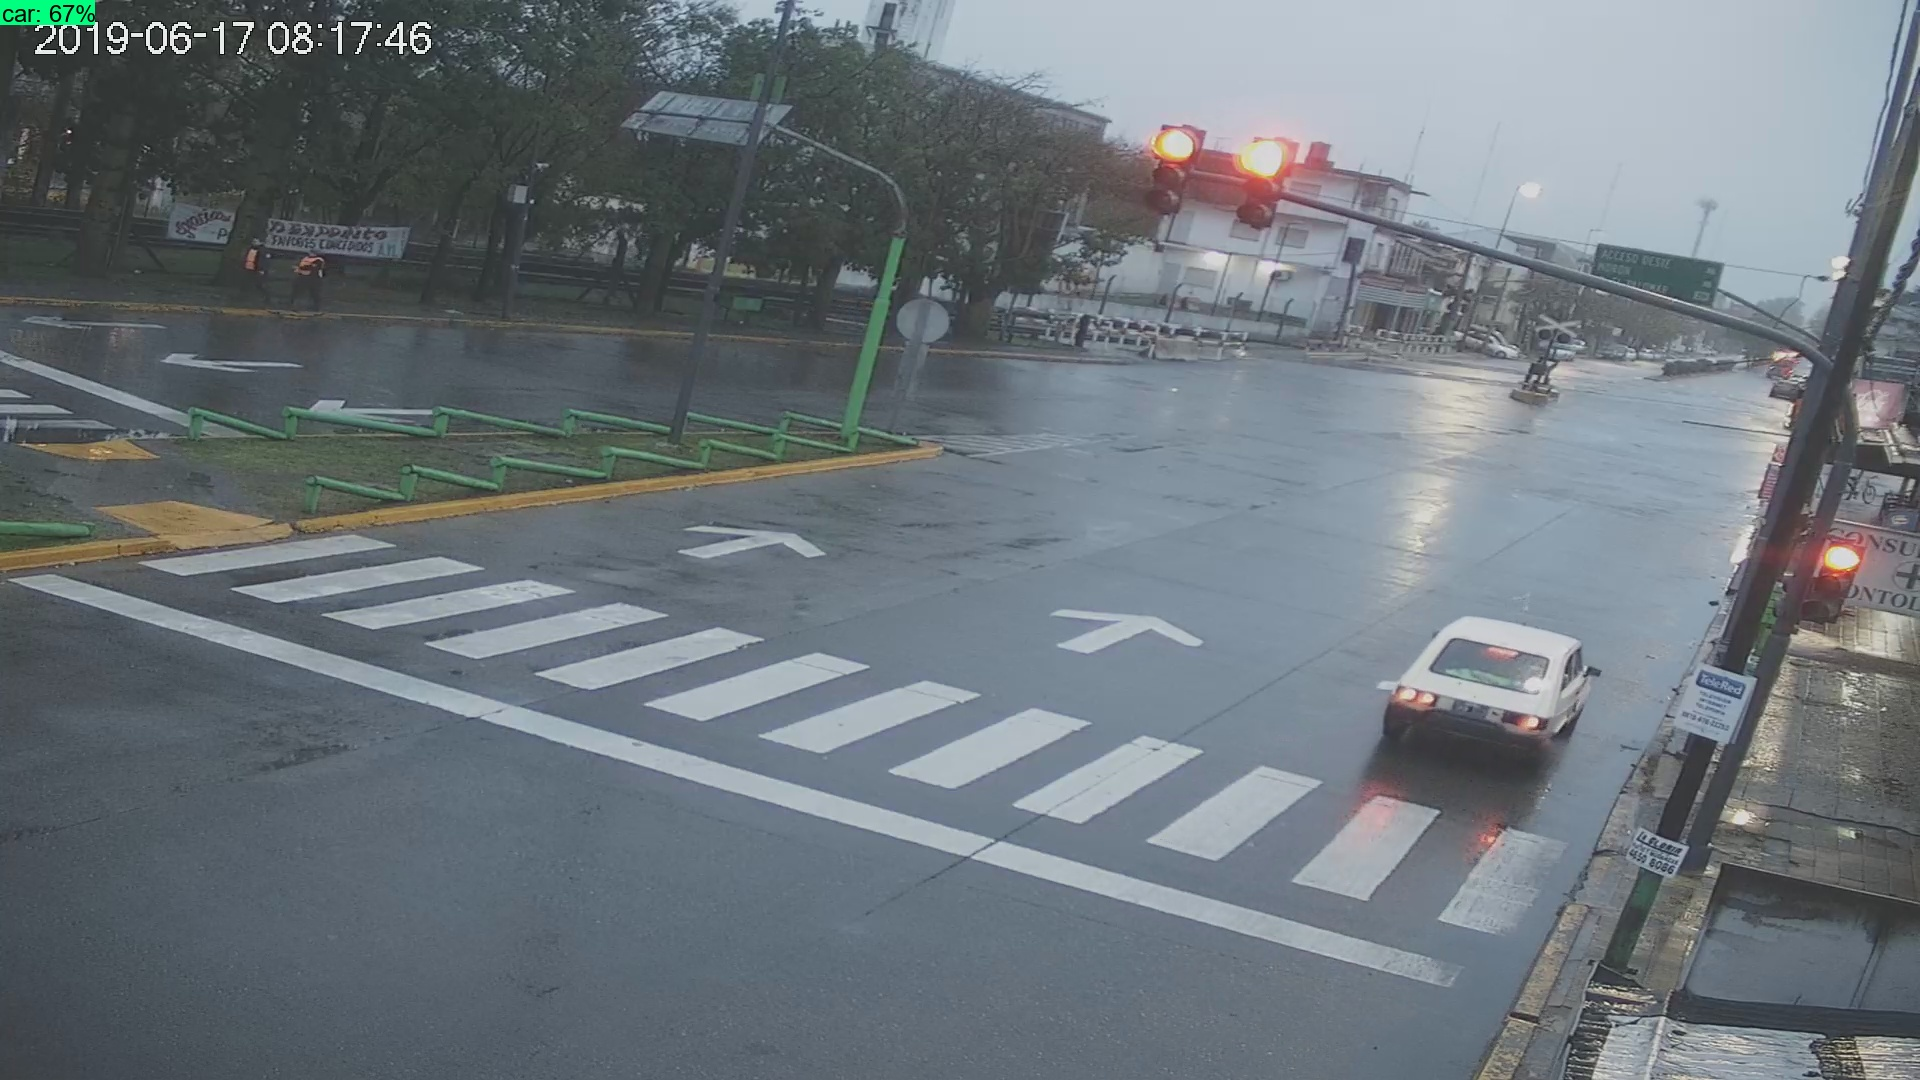car: (1371, 604, 1609, 775)
